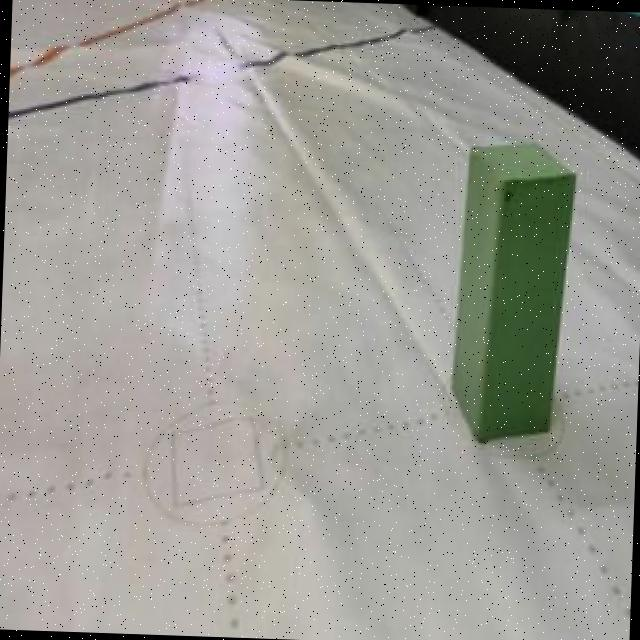greenbox: (452, 137, 577, 444)
